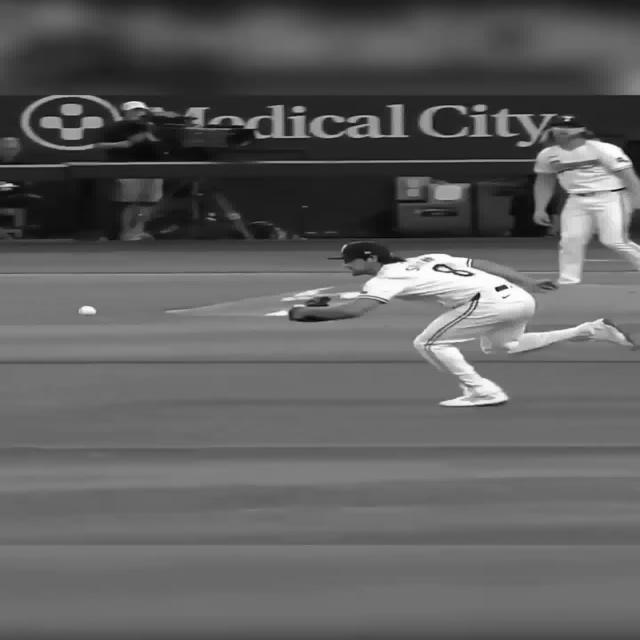baseball: (77, 306, 97, 316)
baseball_glove: (288, 294, 360, 322)
shoe: (585, 318, 635, 350), (438, 388, 508, 406)
